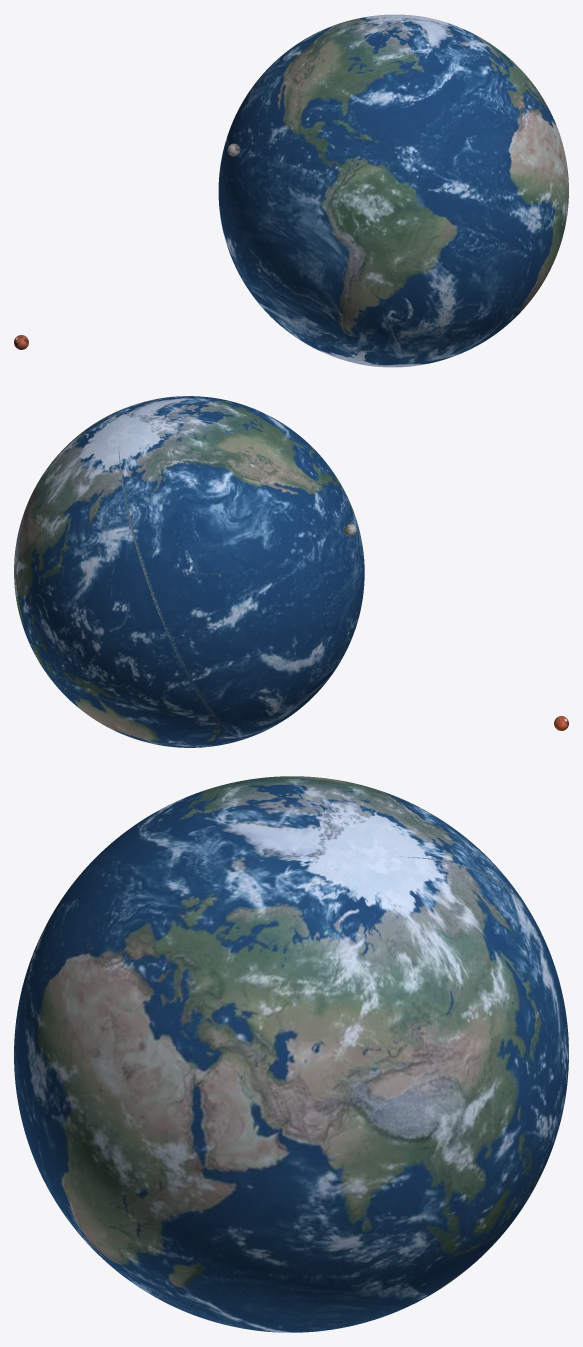
File: supercode_latest-transformed.glb
The picture shows the model from 3 angles, top to bottom: view 1: azimuth 30°, elevation 25°; view 2: azimuth 150°, elevation 25°; view 3: azimuth 270°, elevation 25°; orthographic projection. The views are drawn at different scales.
Parts seen in each view (by area): view 1: Earth.001; view 2: Earth.001; view 3: Earth.001.
Part boxes in pixels (x1,y1,x2,y2): Earth.001: (218,14,568,367); Earth.001: (14,396,364,747); Earth.001: (14,776,568,1332).
Size of the model in its own units: 3.72 by 2.14 by 2.13.
Materials: 3 (3 with a texture image).
